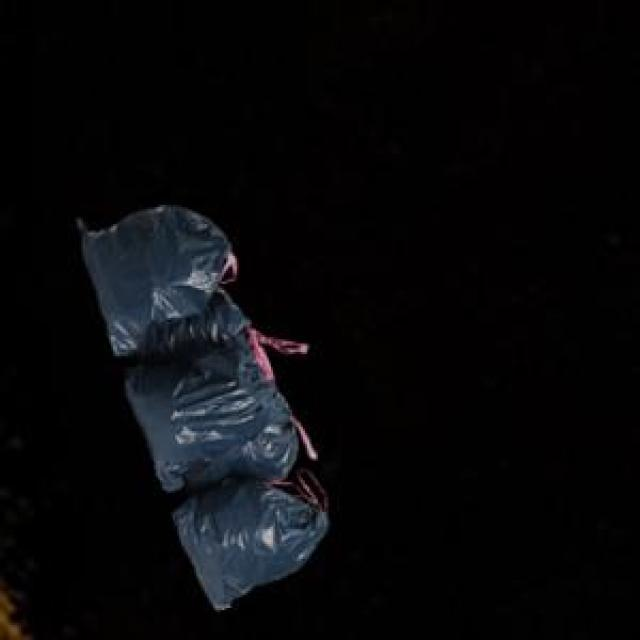waste: (79, 205, 329, 609)
